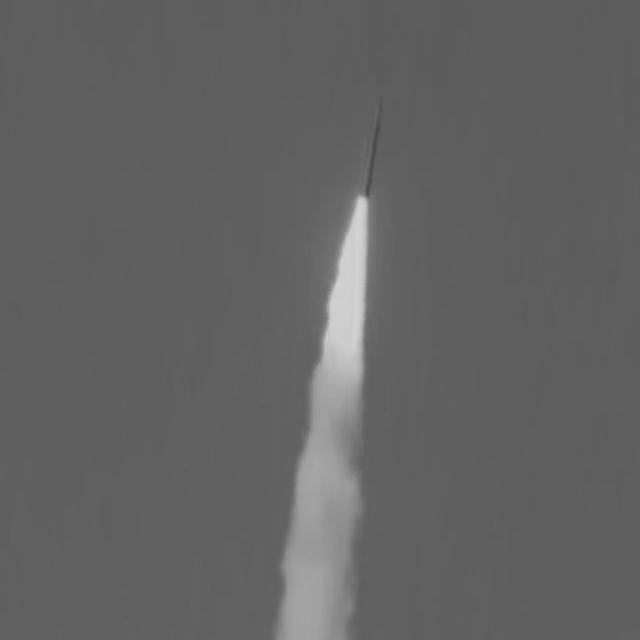missile: (356, 77, 388, 215)
